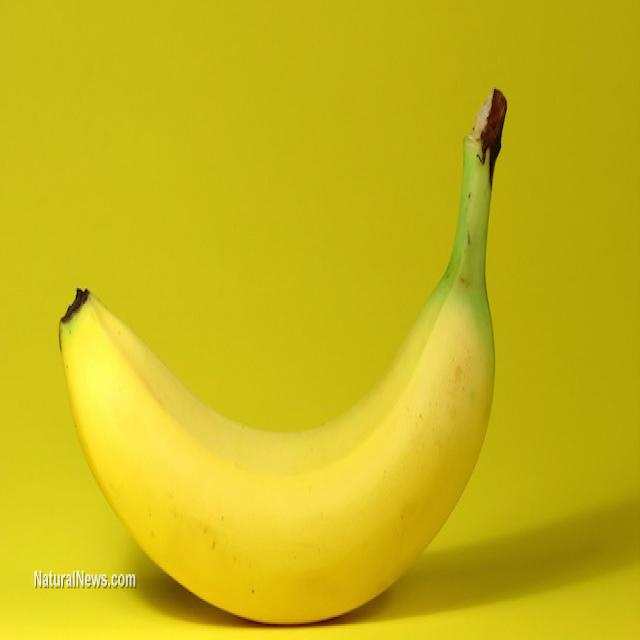banana: (54, 95, 546, 623)
